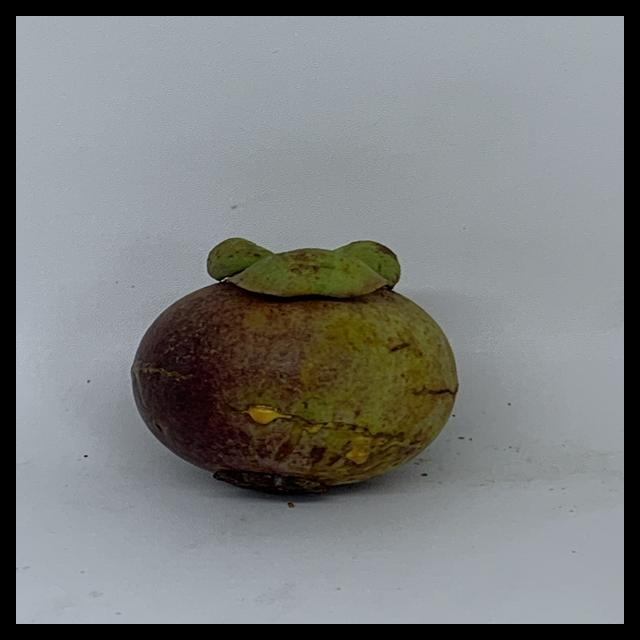mangosteen: (111, 205, 487, 523)
